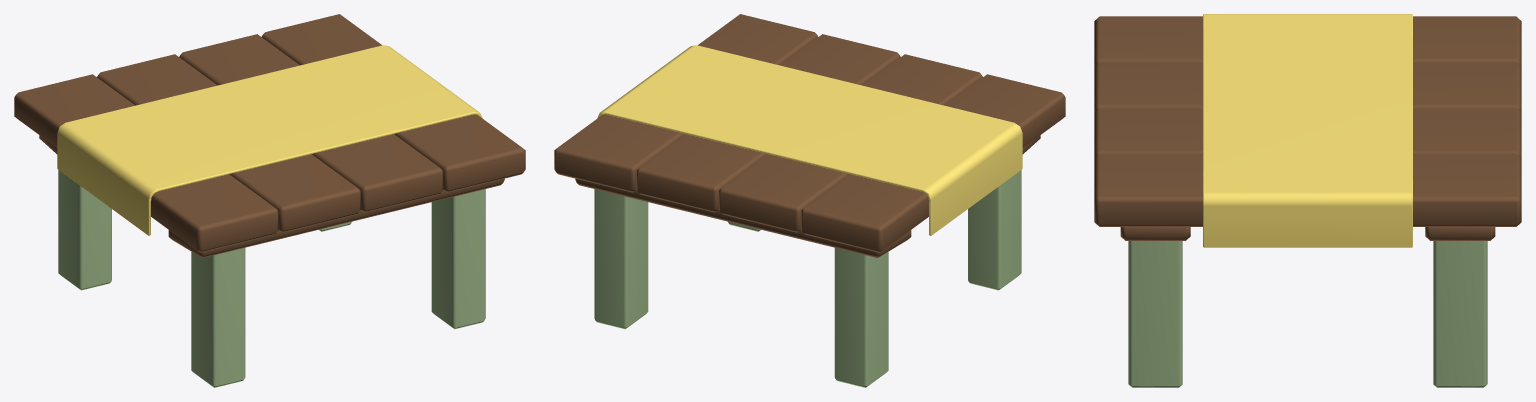
File: Table_13.glb
3 views of the same model, side by side, from view 1: azimuth 30°, elevation 25°; view 2: azimuth 150°, elevation 25°; view 3: azimuth 270°, elevation 25° (orthographic). The views are drawn at different scales.
Parts seen in each view (by area): view 1: Table_13; view 2: Table_13; view 3: Table_13.
Part boxes in pixels (x1,y1,x2,y2): Table_13: [14, 14, 525, 387]; Table_13: [554, 14, 1065, 387]; Table_13: [1094, 14, 1521, 387].
Bounding box in the file's own units: 1.6 × 0.8332 × 1.55.
1 material, 1 textured.
